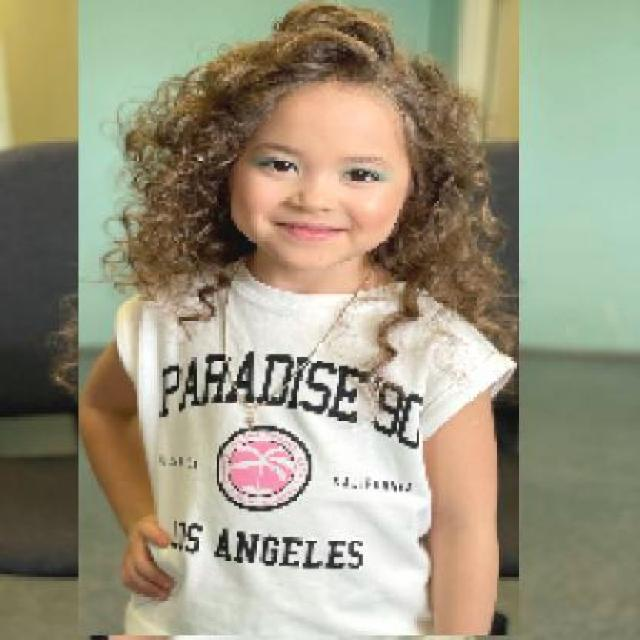child: (77, 0, 520, 637)
